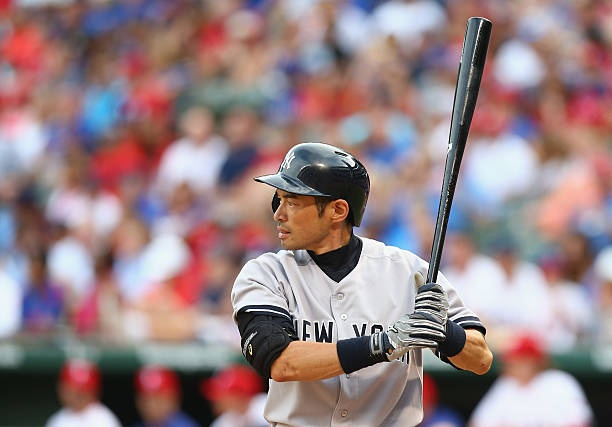bita: (423, 17, 496, 293)
